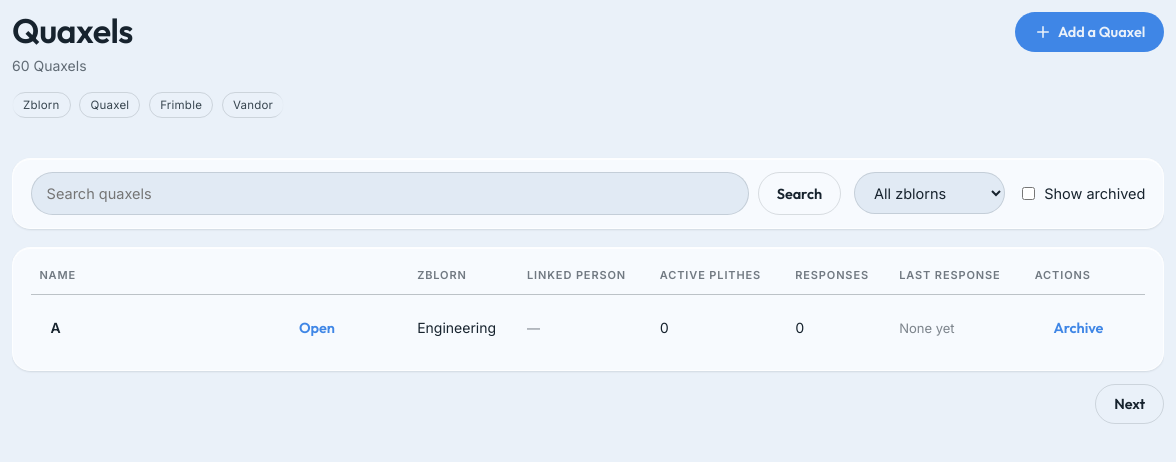
Test: filters live in the URL › offers the next page only when there is one
Click the button "Next" at [1130, 404], box [1096,384,1164,424]
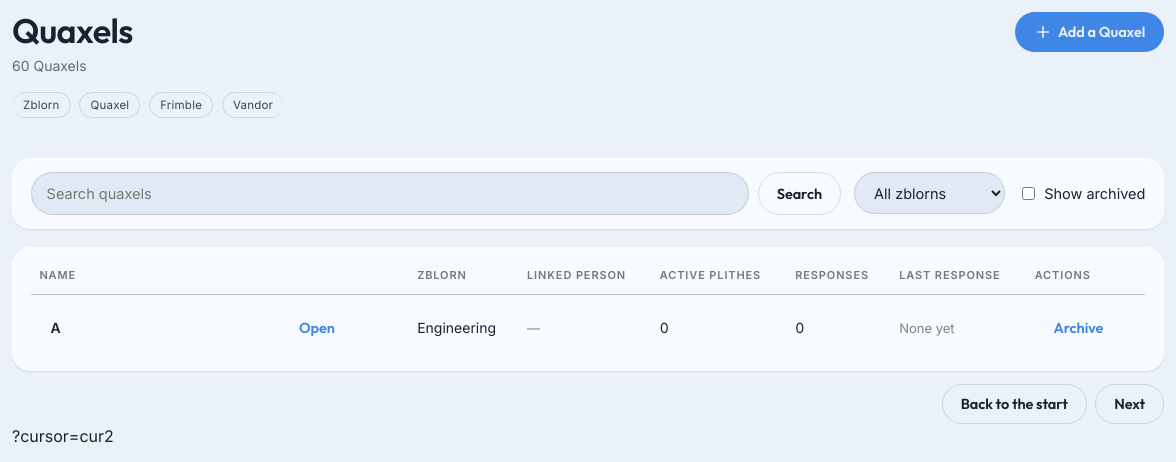
Expected: the text with test id "where" shows "cursor=cur2", [12,426,114,446]
